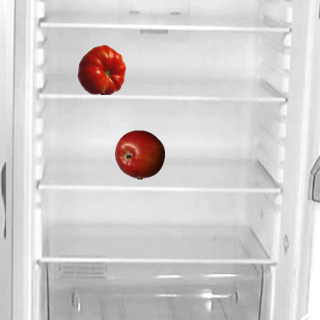Apple Braeburn: (114, 129, 164, 179)
Tomato 3: (76, 44, 126, 94)
